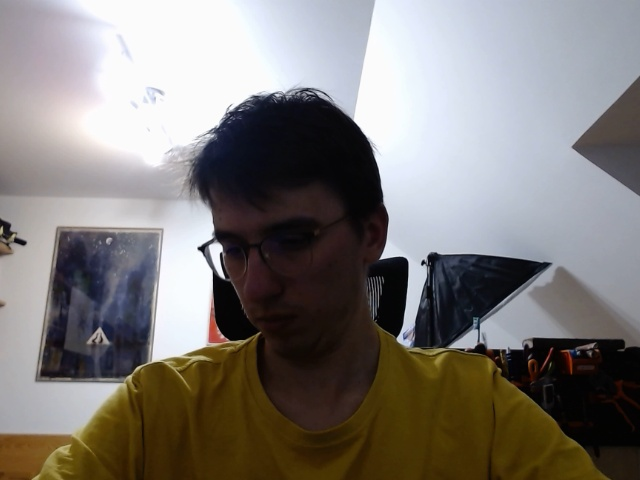NoMask: (198, 88, 391, 360)
